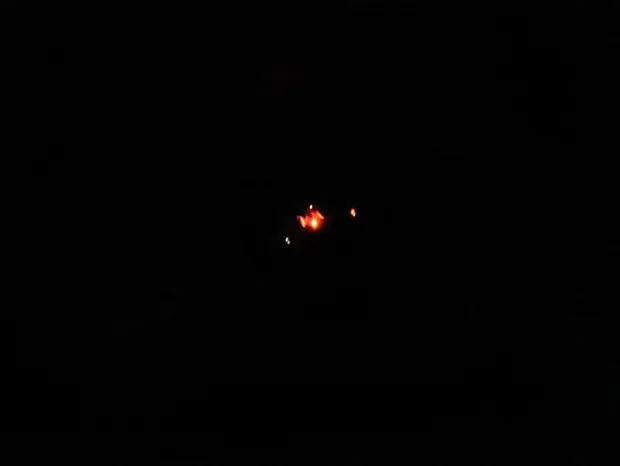Plane: (246, 178, 396, 266)
